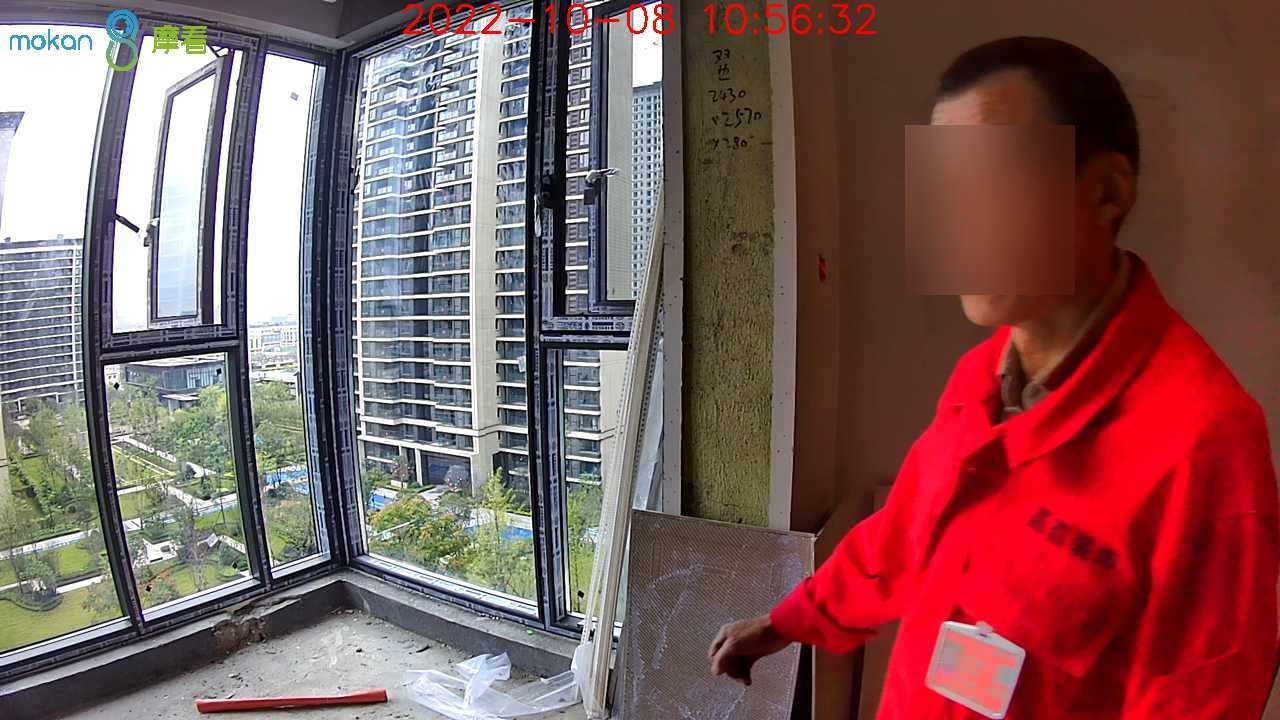people: (695, 36, 1280, 716)
window: (1, 19, 688, 660)
